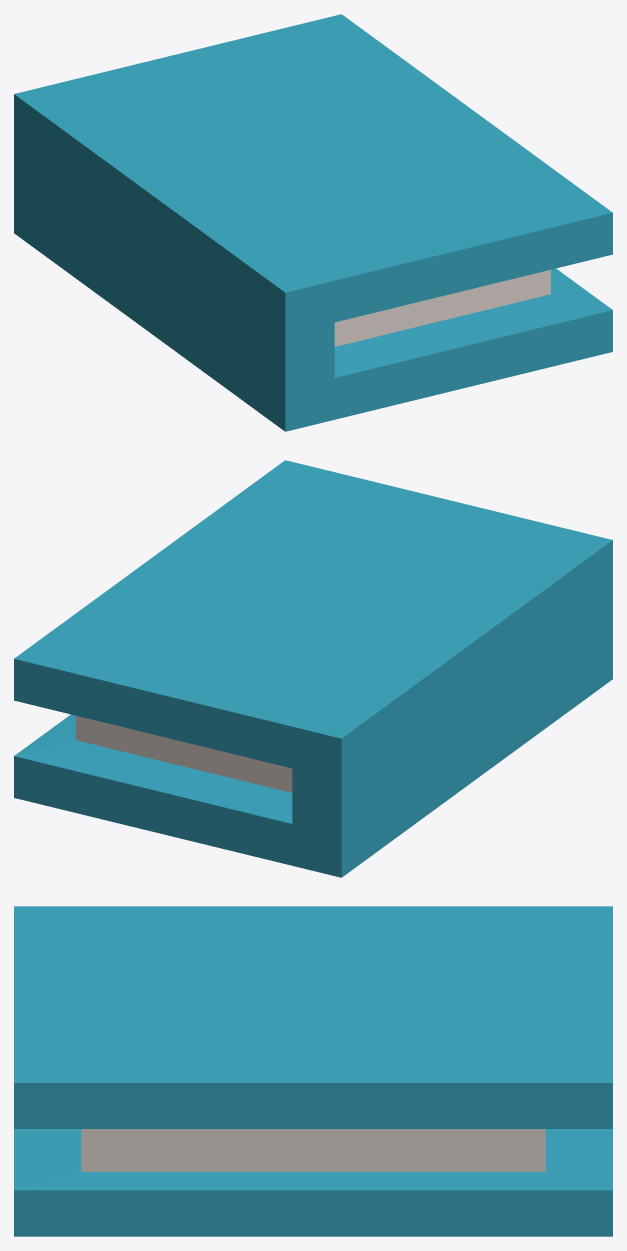
The model's file is Book 01 Blue.FBX.
The picture shows the model from 3 angles, top to bottom: view 1: azimuth 30°, elevation 25°; view 2: azimuth 150°, elevation 25°; view 3: azimuth 270°, elevation 25°; orthographic projection. The views are drawn at different scales.
Parts seen in each view (by area): view 1: Book 01 Blue; view 2: Book 01 Blue; view 3: Book 01 Blue.
Boxes of the visible parts, x1,y1,x2,y2 form: Book 01 Blue: [14, 14, 612, 431]; Book 01 Blue: [14, 460, 612, 877]; Book 01 Blue: [14, 906, 612, 1236].
Bounding box in the file's own units: 38.56 × 15.65 × 55.32.
